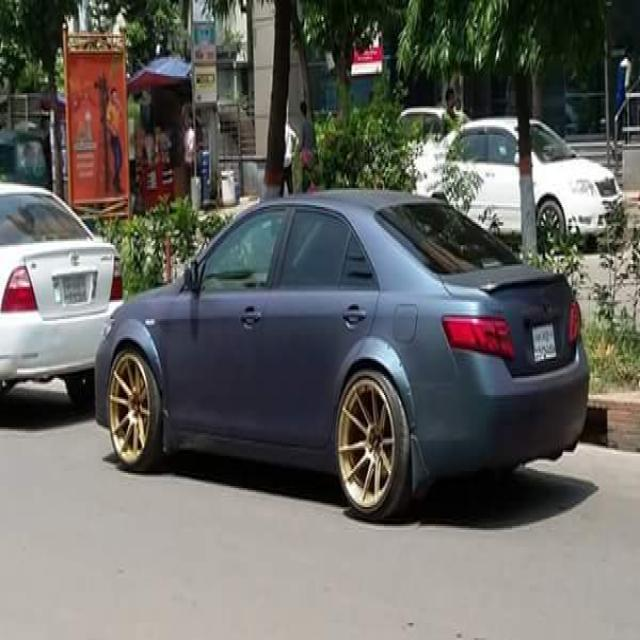numberplate: (54, 266, 92, 305), (529, 319, 557, 363)
